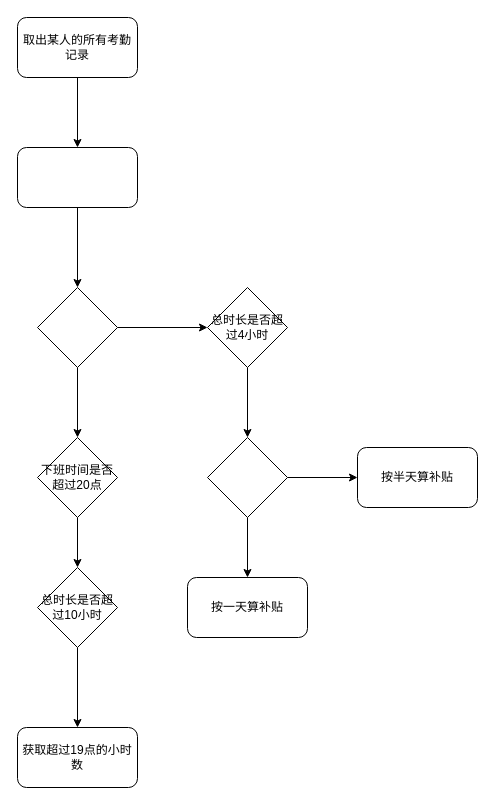
Some shapes in this 495 by 805 pixel diagram are drawn without their labels. Each missing label, with the box of its shape:
循环读取每条记录: (16, 146, 138, 208)
总时长是否超过8小时: (206, 436, 288, 518)
是否节假日: (36, 286, 118, 368)
